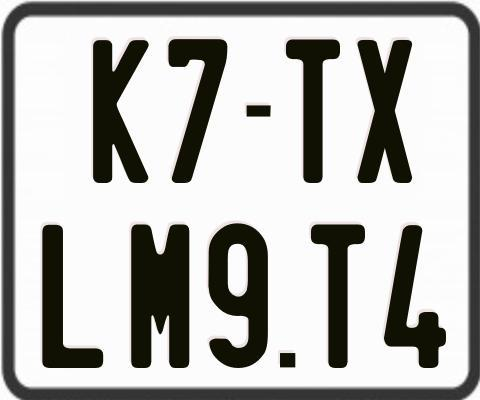4: (381, 223, 443, 369)
7: (165, 38, 230, 183)
9: (205, 222, 269, 369)
K: (93, 40, 151, 183)
L: (39, 224, 102, 370)
M: (131, 222, 191, 369)
T: (286, 37, 343, 186), (308, 221, 364, 371)
X: (355, 39, 412, 187)
